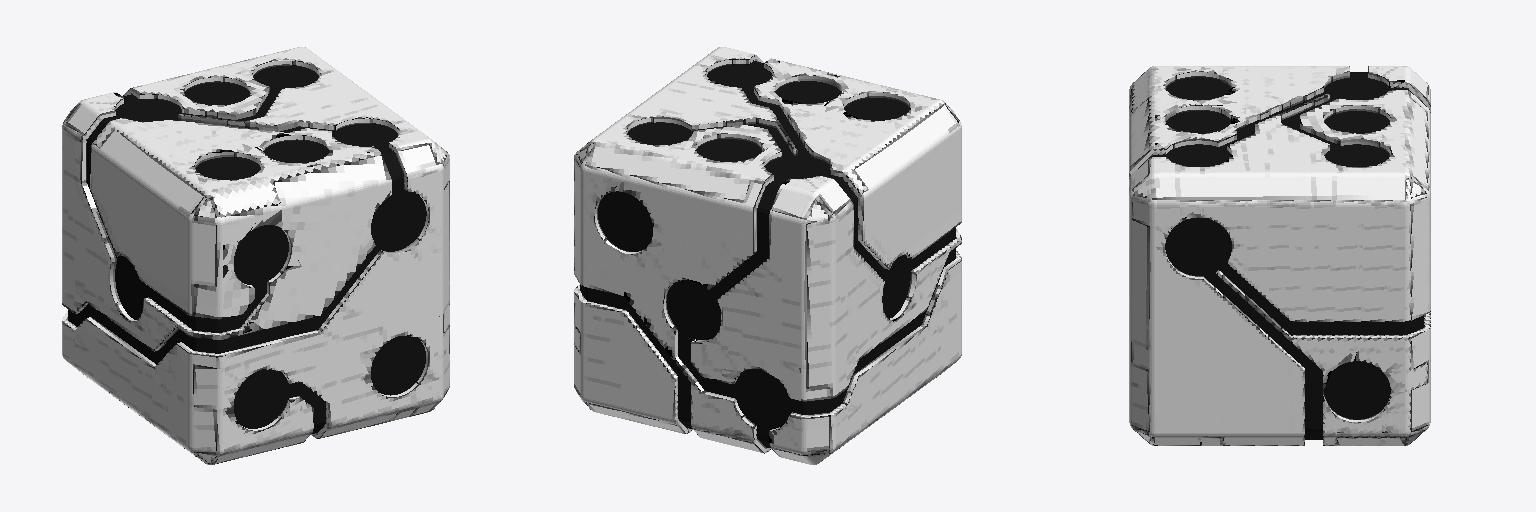
3 renders of one model, left to right at view 1: azimuth 30°, elevation 25°; view 2: azimuth 150°, elevation 25°; view 3: azimuth 270°, elevation 25°, orthographic.
Visible parts, largest first — view 1: Box007, Box002; view 2: Box007, Box002; view 3: Box007, Box002.
Boxes of the visible parts, box(x1,y1,x2,y2) form: Box007: box(62, 47, 449, 464); Box002: box(68, 66, 425, 433); Box007: box(574, 47, 961, 464); Box002: box(580, 61, 955, 447); Box007: box(1129, 66, 1430, 445); Box002: box(1151, 72, 1423, 439).
Bounding box in the file's own units: 23.68 × 23.66 × 23.66.
Materials: 2 (1 with a texture image).